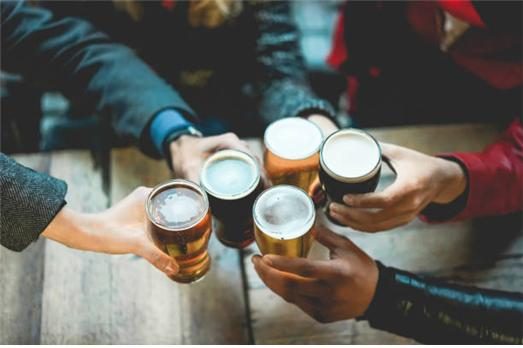alcohol: (145, 178, 211, 285), (317, 127, 382, 226), (198, 149, 260, 248), (250, 184, 314, 266), (262, 116, 317, 198)
